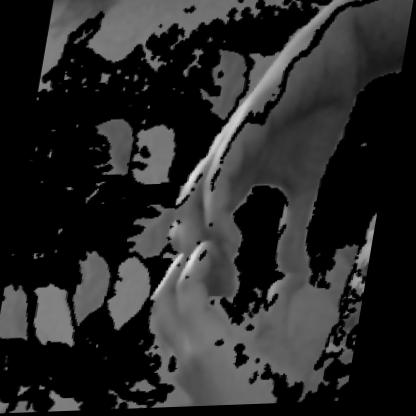heart: (138, 122, 343, 378)
